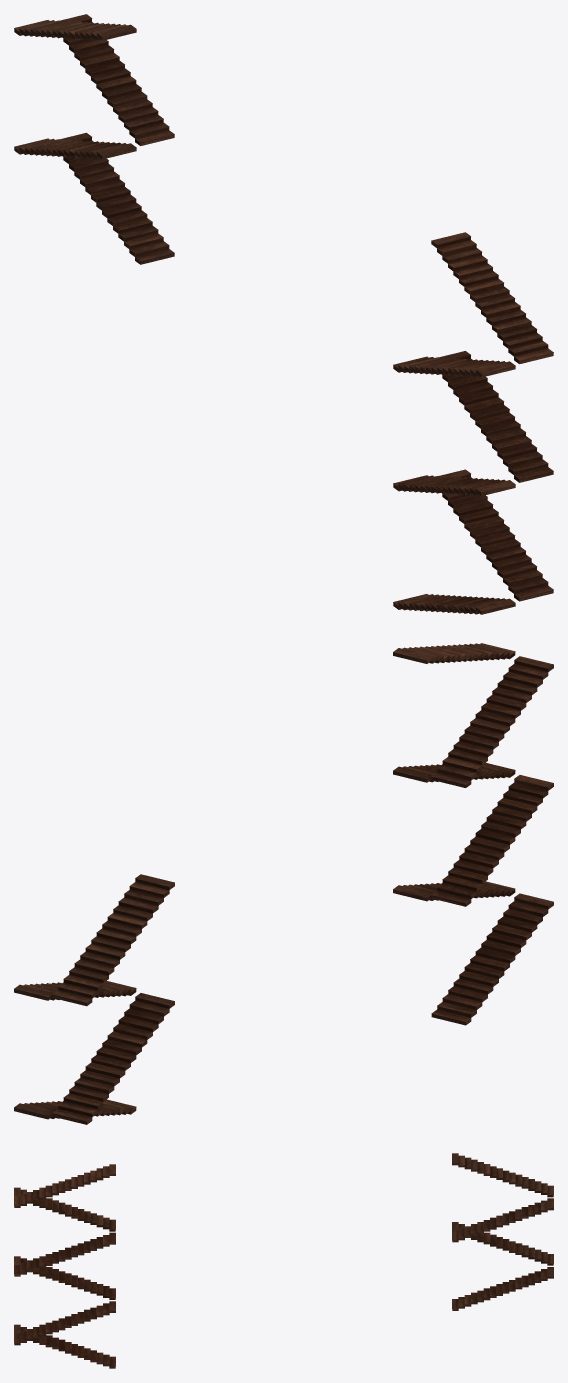
The model's file is StairSteps.fbx.
The picture shows the model from 3 angles, top to bottom: view 1: azimuth 30°, elevation 25°; view 2: azimuth 150°, elevation 25°; view 3: azimuth 270°, elevation 25°; orthographic projection. The views are drawn at different scales.
Size of the model in its own units: 266 by 1248 by 2971.
